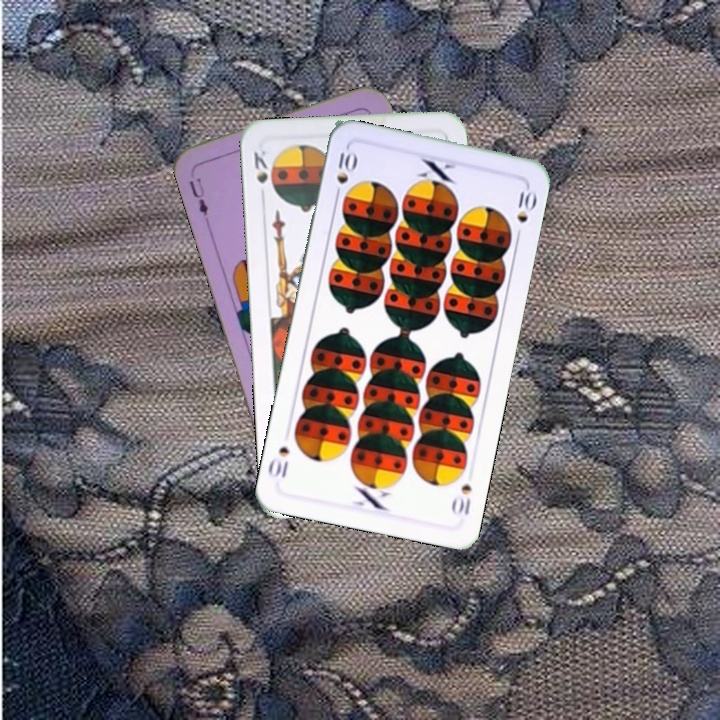EU: (185, 173, 211, 218)
S10: (331, 148, 358, 202), (455, 480, 474, 519)
SK: (250, 146, 271, 203)
